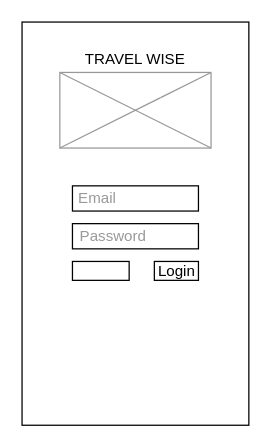
The diagram is 271 pixels wide and 447 high, and some of its shapes have lost their labels. The shapes that lost their labels are listed below. From the top down, each one's centre as x and y in pixels, then its label:
(135,109): Logo
(100,270): Sign-up
